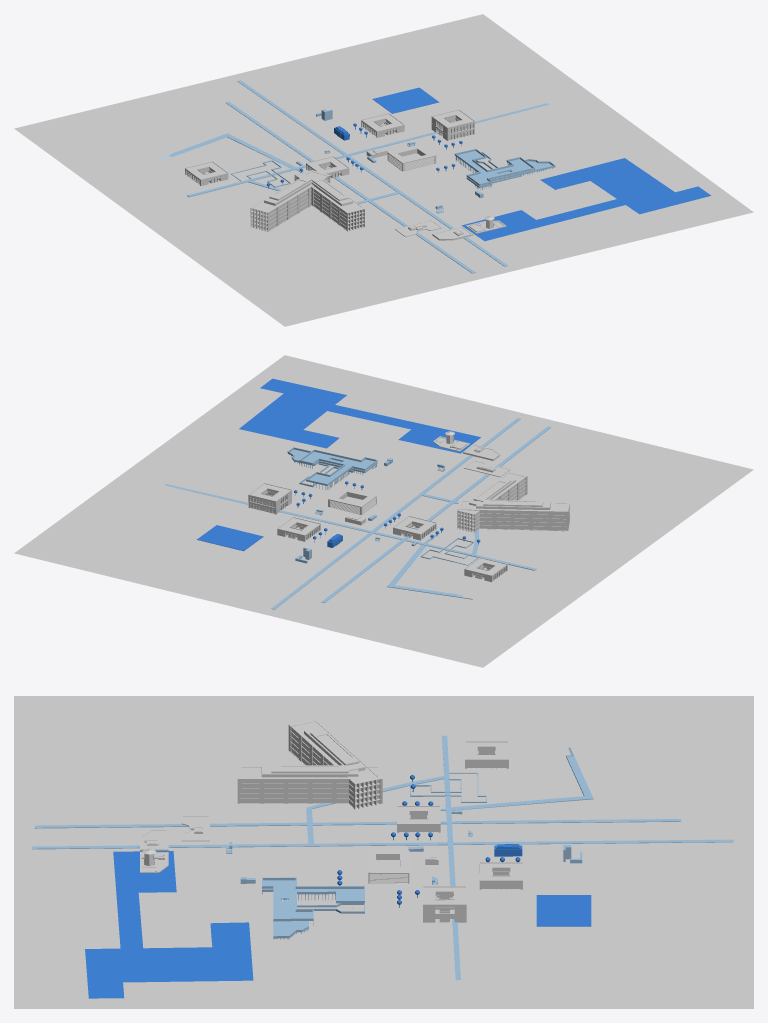
File: color_cu_desagrupdo_v2.glb
The picture shows the model from 3 angles, top to bottom: view 1: azimuth 30°, elevation 25°; view 2: azimuth 150°, elevation 25°; view 3: azimuth 270°, elevation 25°; orthographic projection. The views are drawn at different scales.
Visible parts, largest first — view 1: Plane, underground_grey, building2Instance, street, underground_grey_3, fancyBuildings, EdificioCU.004, cubeInstance, building3Instance, EdificioCU.003, EdificioCU.002, EdificioCU.001 (+1 smaller); view 2: Plane, underground_grey, building2Instance, street, underground_grey_3, fancyBuildings, EdificioCU.004, cubeInstance, building3Instance, EdificioCU.003, EdificioCU.002, EdificioCU.001 (+1 smaller); view 3: Plane, underground_grey, building2Instance, street, underground_grey_3, fancyBuildings, cubeInstance, EdificioCU.004, building3Instance, EdificioCU.001, EdificioCU.002, EdificioCU.003 (+1 smaller).
Part boxes in pixels (bbox=[...]): Plane: bbox=[14, 14, 753, 326]; underground_grey: bbox=[461, 158, 711, 241]; building2Instance: bbox=[250, 170, 364, 231]; street: bbox=[187, 80, 549, 273]; underground_grey_3: bbox=[454, 149, 555, 190]; fancyBuildings: bbox=[395, 216, 506, 240]; EdificioCU.004: bbox=[431, 109, 474, 140]; cubeInstance: bbox=[372, 87, 439, 113]; building3Instance: bbox=[387, 144, 436, 171]; EdificioCU.003: bbox=[361, 113, 404, 137]; EdificioCU.002: bbox=[185, 161, 228, 185]; EdificioCU.001: bbox=[306, 156, 349, 178]; Plane: bbox=[14, 355, 753, 667]; underground_grey: bbox=[239, 378, 480, 453]; building2Instance: bbox=[457, 471, 569, 532]; street: bbox=[164, 418, 551, 609]; underground_grey_3: bbox=[287, 447, 377, 489]; fancyBuildings: bbox=[433, 431, 510, 477]; EdificioCU.004: bbox=[248, 483, 291, 514]; cubeInstance: bbox=[197, 525, 263, 551]; building3Instance: bbox=[328, 488, 376, 514]; EdificioCU.003: bbox=[277, 517, 320, 541]; EdificioCU.002: bbox=[464, 557, 507, 582]; EdificioCU.001: bbox=[393, 516, 436, 540]; Plane: bbox=[14, 696, 753, 1008]; underground_grey: bbox=[85, 851, 253, 998]; building2Instance: bbox=[237, 719, 382, 809]; street: bbox=[31, 735, 733, 980]; underground_grey_3: bbox=[262, 877, 364, 939]; fancyBuildings: bbox=[140, 816, 209, 872]; cubeInstance: bbox=[536, 895, 591, 926]; EdificioCU.004: bbox=[423, 886, 466, 922]; building3Instance: bbox=[368, 849, 409, 883]; EdificioCU.001: bbox=[397, 805, 440, 832]; EdificioCU.002: bbox=[465, 741, 508, 768]; EdificioCU.003: bbox=[479, 862, 522, 889].
Bounding box in the file's own units: 2684 × 179 × 2684.
